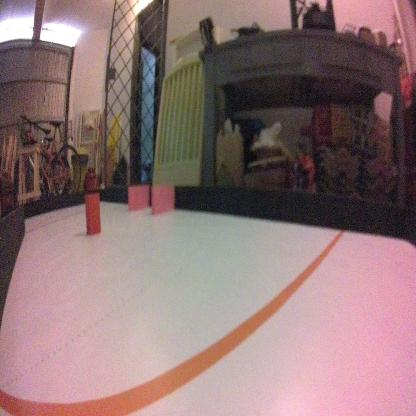magenta: (150, 184, 176, 219), (127, 184, 150, 215)
red: (83, 190, 102, 235)
